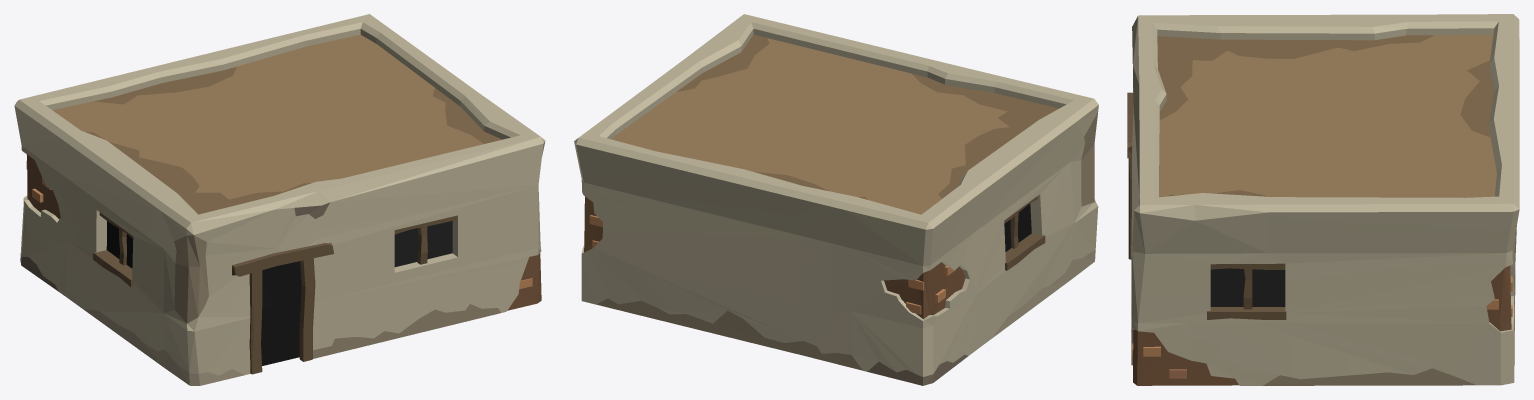
File: house_big.glb
3 views of the same model, side by side, from view 1: azimuth 30°, elevation 25°; view 2: azimuth 150°, elevation 25°; view 3: azimuth 270°, elevation 25° (orthographic). The views are drawn at different scales.
Visible parts, largest first — view 1: SM_Bld_Village_06; view 2: SM_Bld_Village_06; view 3: SM_Bld_Village_06.
Part boxes in pixels (<box>): SM_Bld_Village_06: <box>14,14,545,385</box>; SM_Bld_Village_06: <box>574,14,1098,385</box>; SM_Bld_Village_06: <box>1127,14,1519,385</box>.
Bounding box in the file's own units: 765 × 329 × 646.
1 material, 1 textured.
